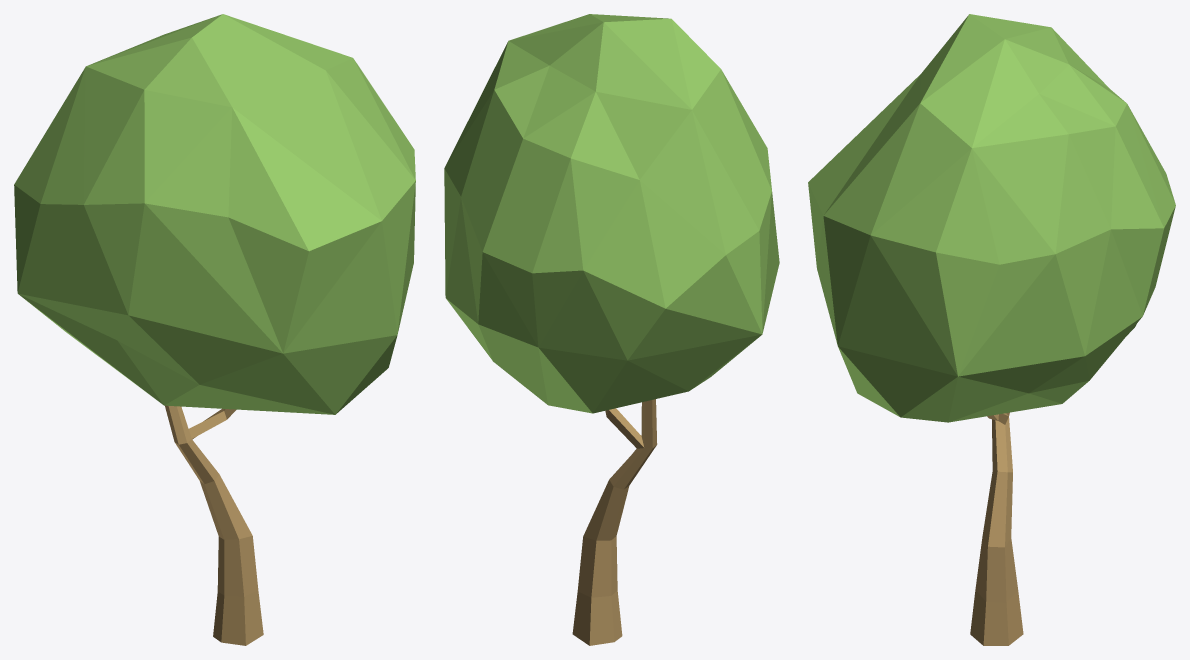
File: Oak_Tree_m_01.fbx
3 views of the same model, side by side, from view 1: azimuth 30°, elevation 25°; view 2: azimuth 150°, elevation 25°; view 3: azimuth 270°, elevation 25° (orthographic). The views are drawn at different scales.
Parts seen in each view (by area): view 1: Oak_Tree_m_01; view 2: Oak_Tree_m_01; view 3: Oak_Tree_m_01.
Boxes of the visible parts, bbox=[...] form: Oak_Tree_m_01: bbox=[14, 14, 415, 645]; Oak_Tree_m_01: bbox=[444, 14, 779, 645]; Oak_Tree_m_01: bbox=[808, 14, 1175, 645].
Bounding box in the file's own units: 554 × 943 × 529.
